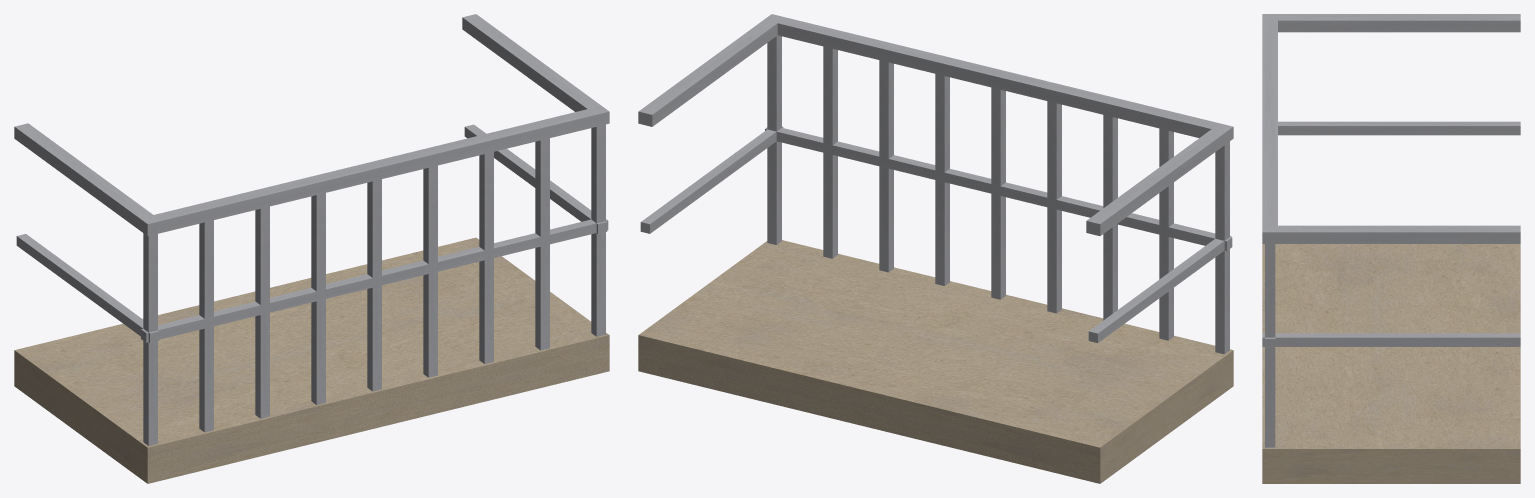
File: Balcony.fbx
The picture shows the model from 3 angles, left to right: view 1: azimuth 30°, elevation 25°; view 2: azimuth 150°, elevation 25°; view 3: azimuth 270°, elevation 25°; orthographic projection. The views are drawn at different scales.
Parts seen in each view (by area): view 1: Balcony; view 2: Balcony; view 3: Balcony.
Part boxes in pixels (<box>): Balcony: <box>14,14,609,483</box>; Balcony: <box>638,14,1233,483</box>; Balcony: <box>1262,14,1520,483</box>.
Bounding box in the file's own units: 2 × 1.07 × 1.
